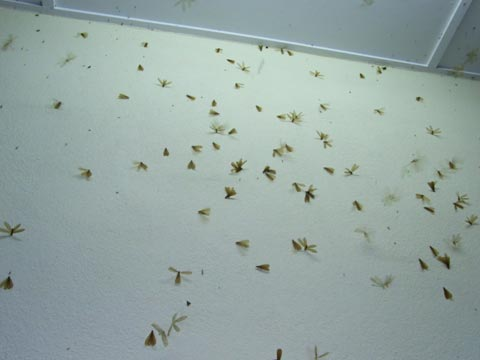flying termite: (1, 216, 28, 247), (46, 92, 72, 120), (164, 264, 194, 287), (221, 155, 249, 177), (129, 153, 152, 179), (72, 163, 95, 186), (71, 26, 96, 47), (299, 233, 320, 256), (153, 72, 177, 92), (423, 121, 446, 141), (259, 163, 280, 184), (203, 119, 225, 138), (222, 183, 241, 204), (1, 270, 16, 295), (307, 65, 327, 83), (438, 253, 455, 274), (445, 157, 466, 173), (253, 260, 276, 274), (416, 256, 431, 277), (349, 198, 366, 216), (343, 161, 360, 179), (371, 102, 387, 121), (304, 186, 318, 207), (142, 330, 157, 348), (237, 58, 252, 75), (312, 126, 329, 141), (231, 79, 249, 93), (233, 236, 252, 249), (290, 177, 304, 194), (267, 147, 284, 160), (415, 192, 433, 204), (441, 287, 455, 302), (184, 158, 200, 171), (251, 102, 265, 116), (316, 100, 330, 114), (456, 191, 470, 205), (210, 140, 226, 152), (115, 90, 131, 102), (321, 163, 335, 176), (424, 180, 438, 193), (464, 214, 477, 228), (189, 142, 205, 153), (133, 60, 145, 73), (436, 166, 446, 181), (184, 90, 196, 102), (197, 208, 211, 218), (321, 139, 333, 150), (208, 108, 223, 116), (276, 110, 285, 123), (228, 125, 237, 137), (357, 71, 367, 81), (209, 96, 217, 108), (224, 57, 235, 65)
